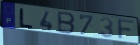3: (99, 16, 114, 40)
4: (39, 11, 54, 32)
7: (79, 14, 94, 36)
B: (57, 10, 77, 36)
F: (117, 18, 137, 41)
L: (19, 8, 35, 30)
